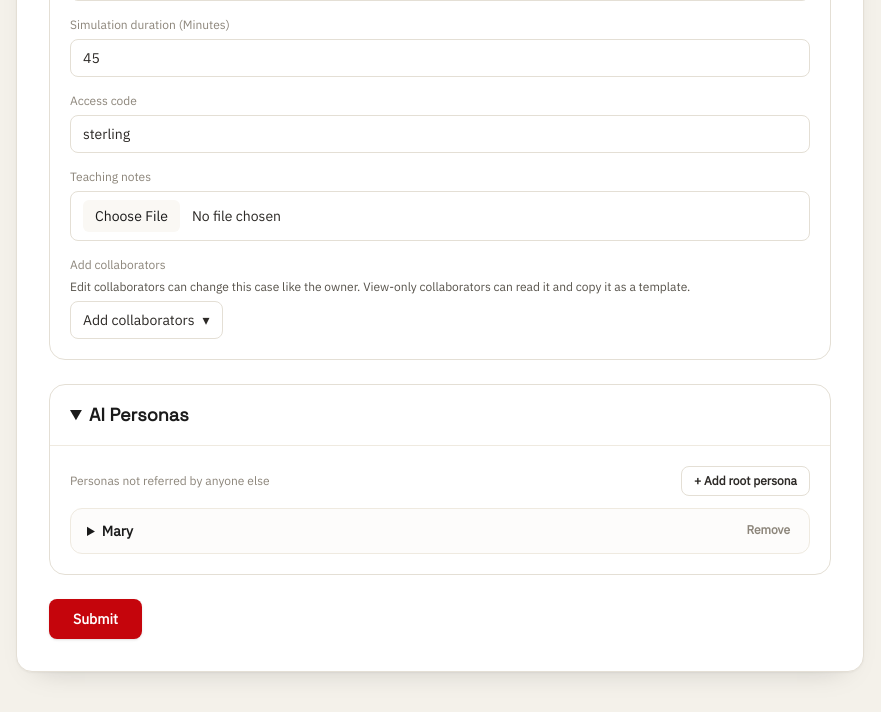
Scenario: CaseForm › edit mode › surfaces a save failure inline
(page scrolled)
What coordinates should you click on to do the following:
click the button "Submit"
I would click on:
 (95, 618)
Its box is [49, 598, 142, 638].
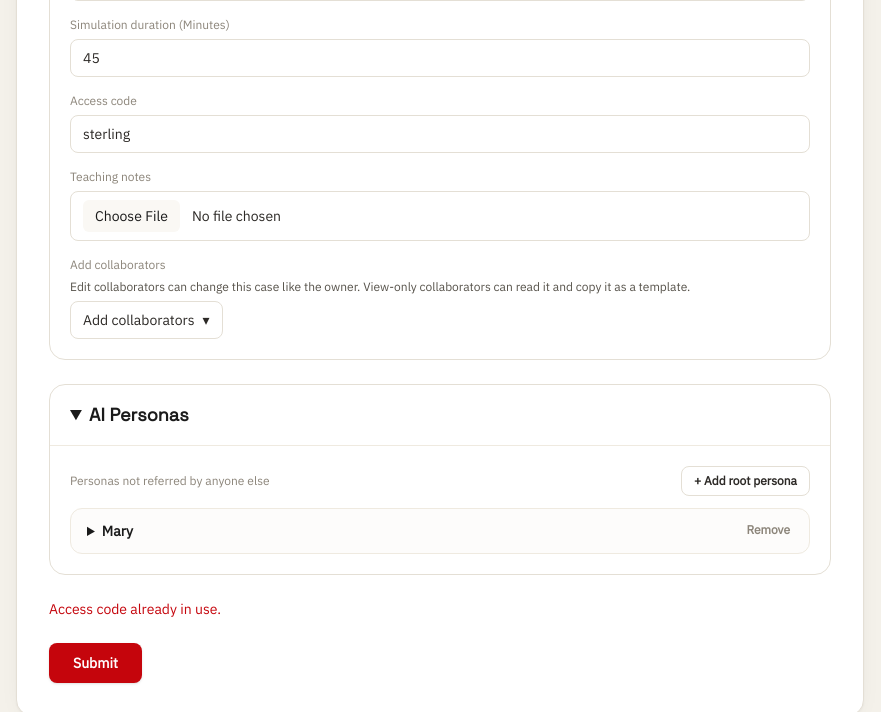
Result: the text "Access code already in use." is shown at [49, 600, 221, 618]
